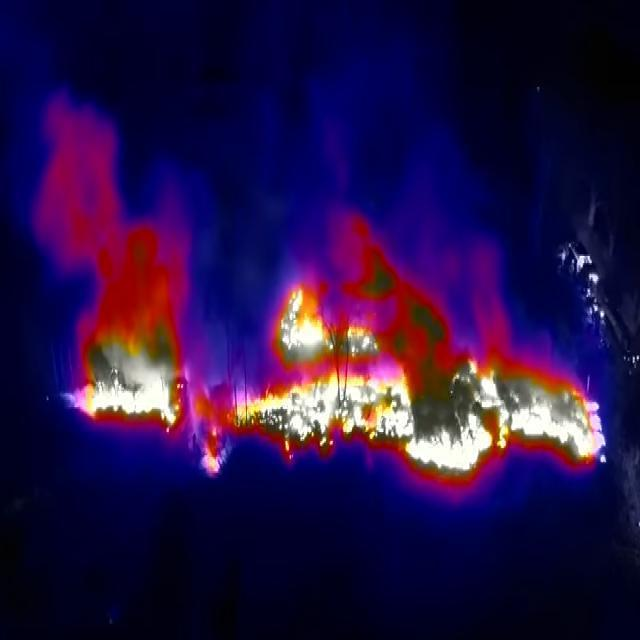fire: (196, 270, 607, 484), (81, 300, 187, 434)
